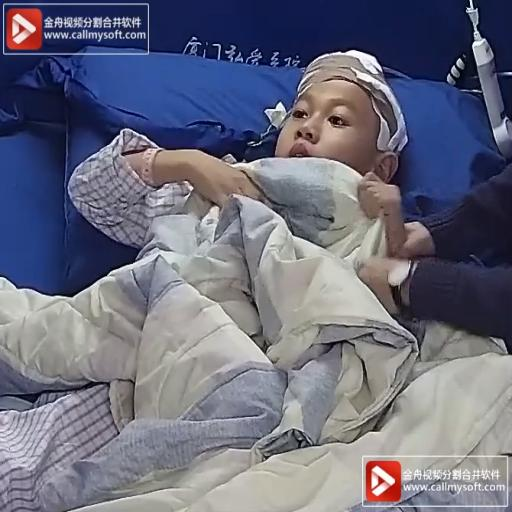Seizure: (269, 37, 405, 181)
